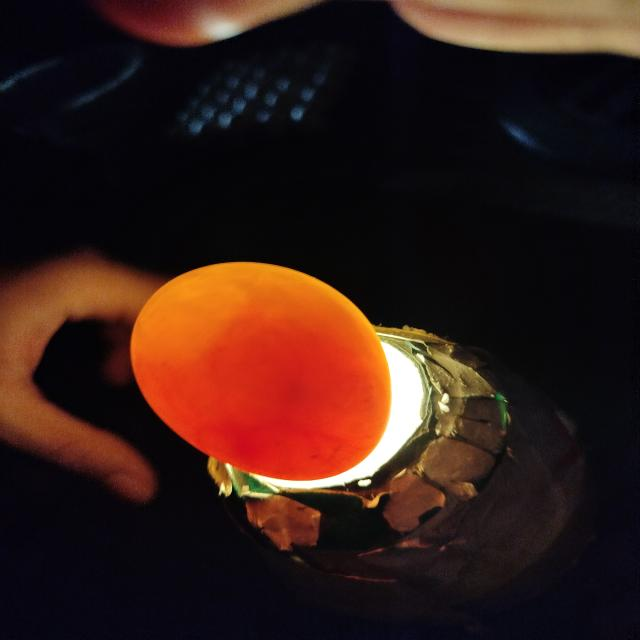Gema Quebrada: (135, 286, 393, 482)
